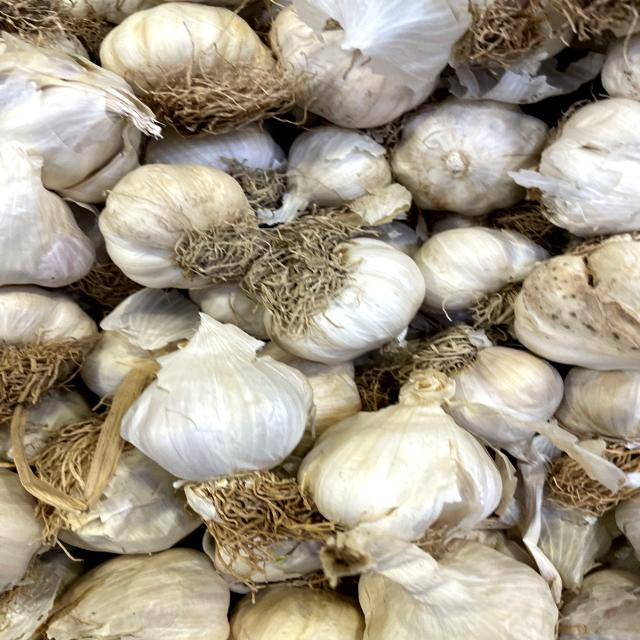garlic: (293, 373, 512, 545), (83, 145, 265, 298)
